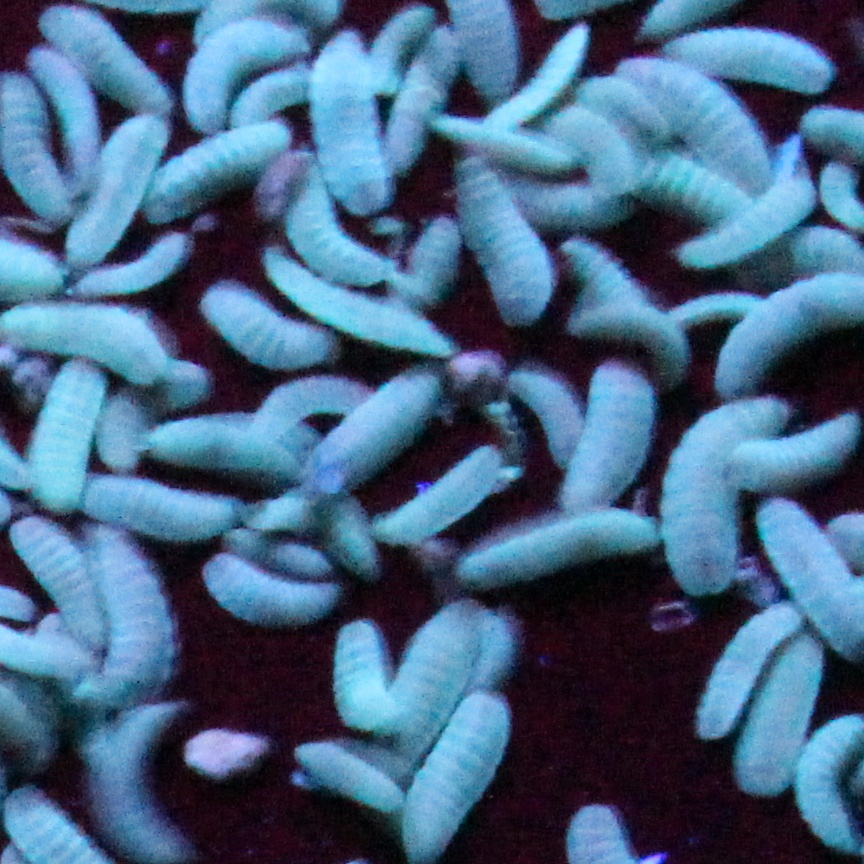larve: (640, 392, 818, 597), (353, 595, 490, 780), (73, 527, 185, 715), (628, 60, 780, 195), (565, 352, 668, 532), (403, 695, 513, 862), (313, 27, 408, 215), (450, 147, 555, 315), (58, 112, 163, 272), (155, 117, 298, 230), (40, 12, 188, 120), (458, 517, 685, 585), (733, 635, 828, 795), (700, 595, 800, 740), (185, 25, 310, 140), (470, 20, 600, 130), (193, 285, 340, 375), (150, 417, 315, 495), (8, 520, 100, 642), (293, 727, 423, 810), (38, 342, 100, 512), (198, 555, 343, 622), (85, 477, 248, 535), (38, 40, 103, 180), (550, 240, 658, 320), (335, 620, 410, 730), (243, 60, 320, 155), (253, 540, 338, 585)
